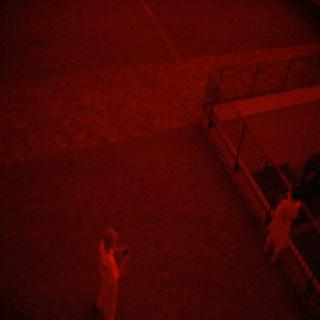person: (86, 223, 134, 320), (261, 180, 308, 263)
